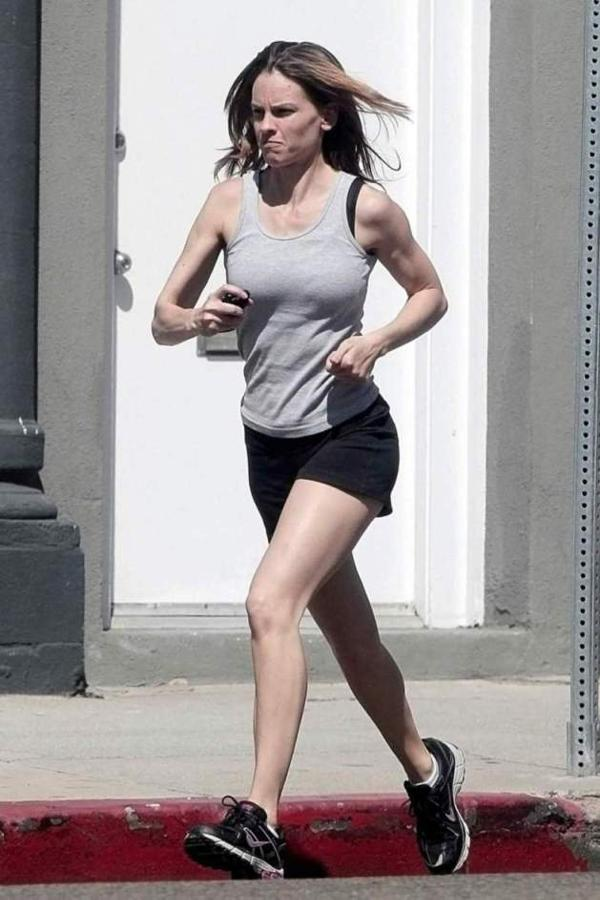person: (151, 38, 474, 878)
